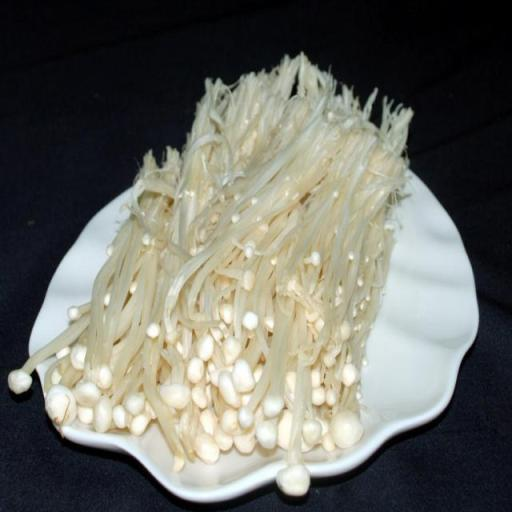Enoki Mushroom: (6, 53, 412, 486)
